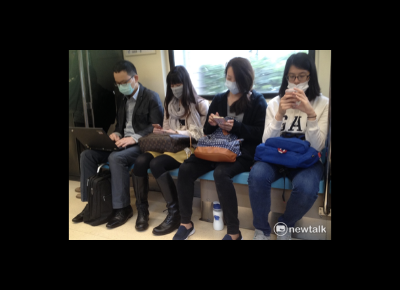mask_weared_incorrect: (287, 70, 308, 92)
with_mask: (113, 77, 137, 95), (224, 72, 240, 95), (169, 80, 185, 98)
